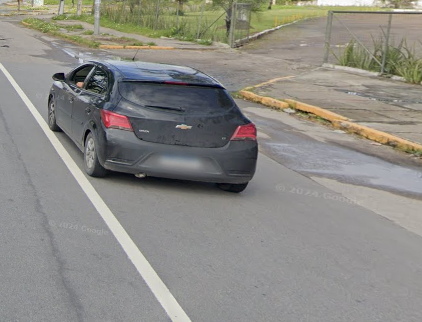car: (42, 46, 264, 201)
